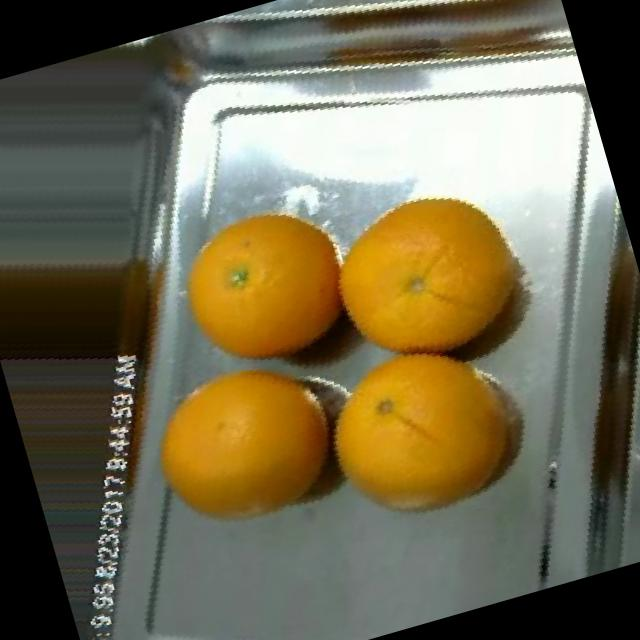Fruit: (138, 162, 408, 409)
